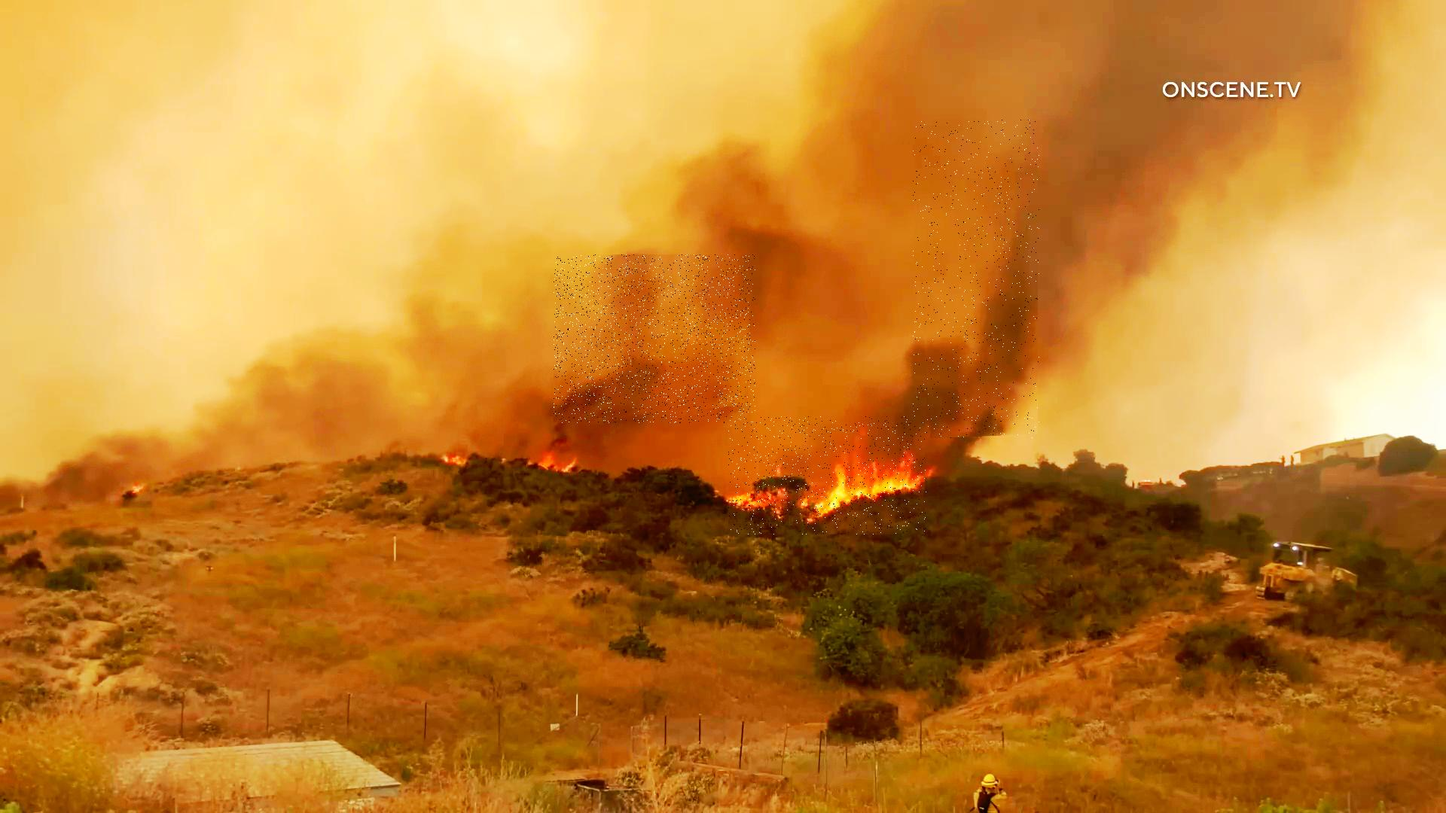fire: (729, 416, 927, 535)
smoke: (913, 119, 1040, 438), (554, 255, 756, 423)
